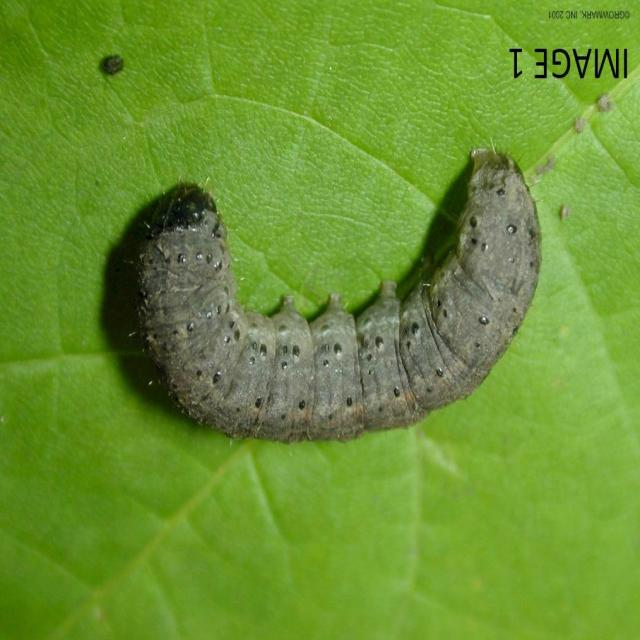black cutworm: (119, 147, 544, 461)
